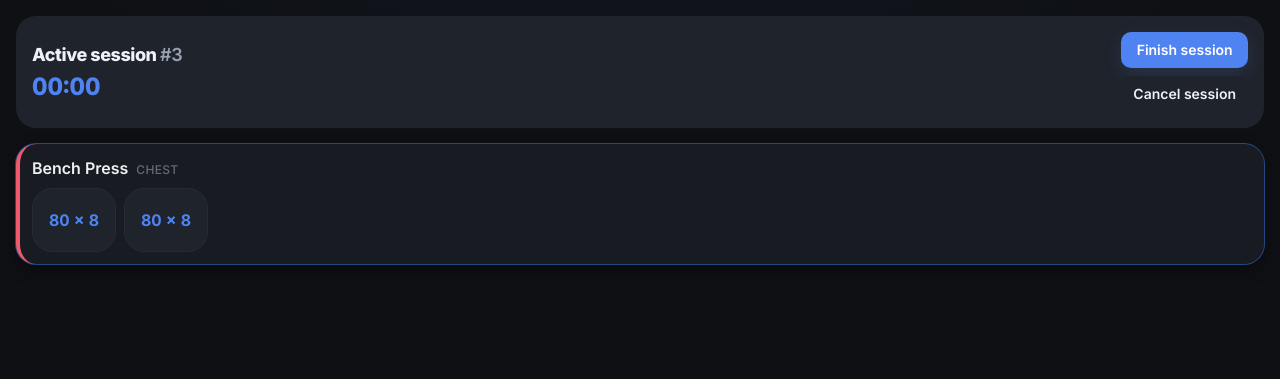
ActiveSessionPage › Cancel in the inline SetEditor closes it without changing the store
Double-click the 1st button "80 × 8": (74,220) [32,188,116,252]
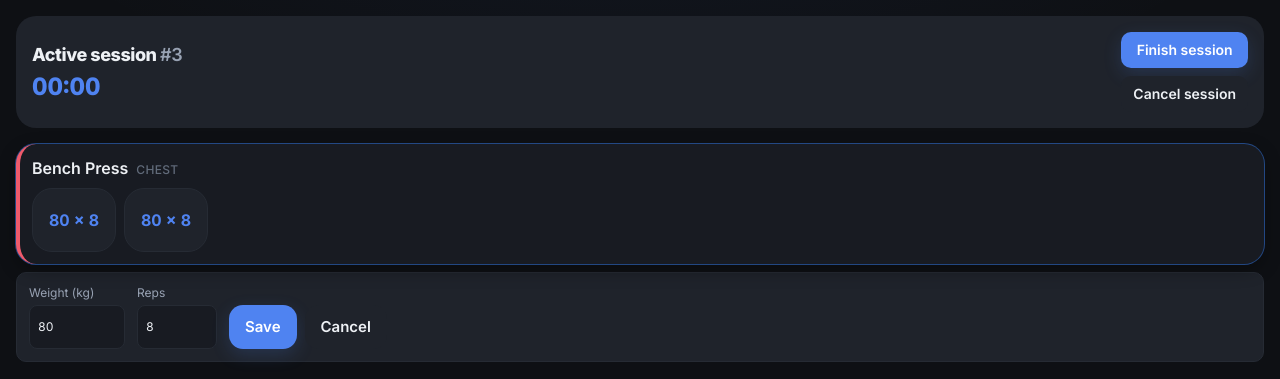
Expected: the number field labelled "Weight (kg)" is shown, [29,305,125,349]
Click the button "Cancel": (346,327) [304,305,387,349]
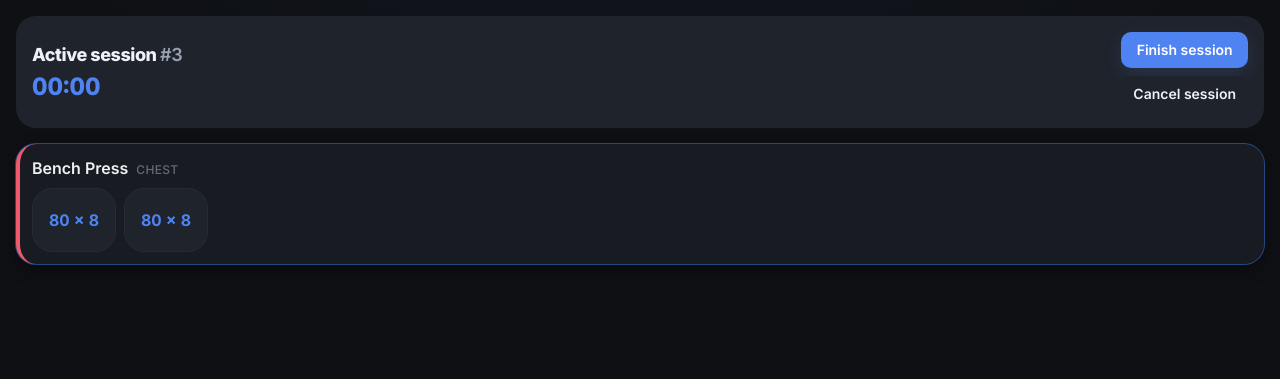
Expected: the label labelled "Weight" is gone
